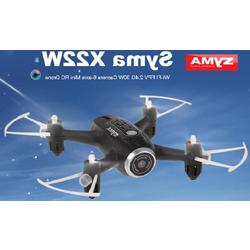drone: (4, 95, 248, 198)
